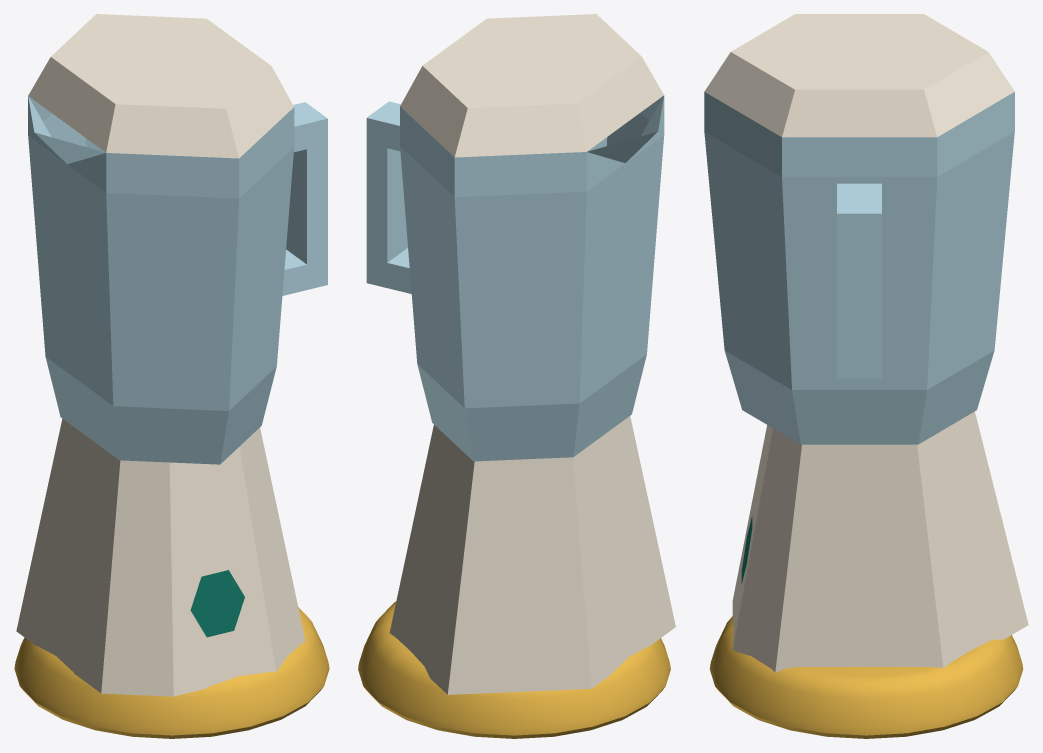
The model's file is blender_c.glb.
3 renders of one model, left to right at view 1: azimuth 30°, elevation 25°; view 2: azimuth 150°, elevation 25°; view 3: azimuth 270°, elevation 25°, orthographic.
Parts seen in each view (by area): view 1: body; view 2: body; view 3: body.
Part boxes in pixels (x1,y1,x2,y2): body: (14, 14, 329, 738); body: (358, 14, 675, 738); body: (704, 14, 1028, 738).
Size of the model in its own units: 0.2 by 0.42 by 0.2.
